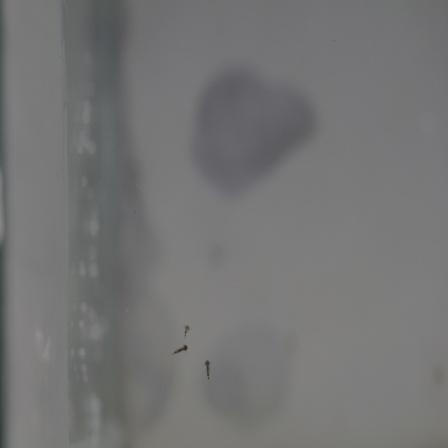Jentik-Nyamuk: (168, 340, 191, 361), (202, 356, 217, 386)
